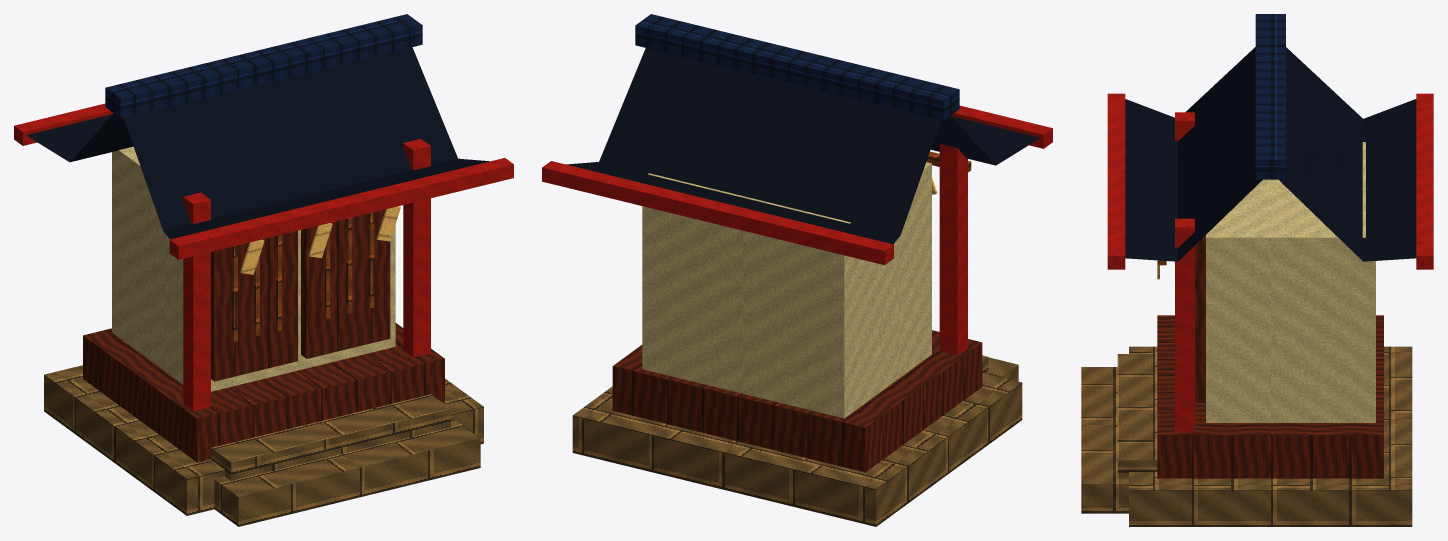
Rendered from wayside_shrine.glb.
The picture shows the model from 3 angles, left to right: view 1: azimuth 30°, elevation 25°; view 2: azimuth 150°, elevation 25°; view 3: azimuth 270°, elevation 25°; orthographic projection. The views are drawn at different scales.
Parts seen in each view (by area): view 1: wayside_shrine; view 2: wayside_shrine; view 3: wayside_shrine.
Boxes of the visible parts, <box> form: wayside_shrine: <box>14,14,513,526</box>; wayside_shrine: <box>542,14,1052,526</box>; wayside_shrine: <box>1081,14,1433,526</box>.
Bounding box in the file's own units: 3.05 × 3.23 × 2.8.
Materials: 7 (7 with a texture image).
